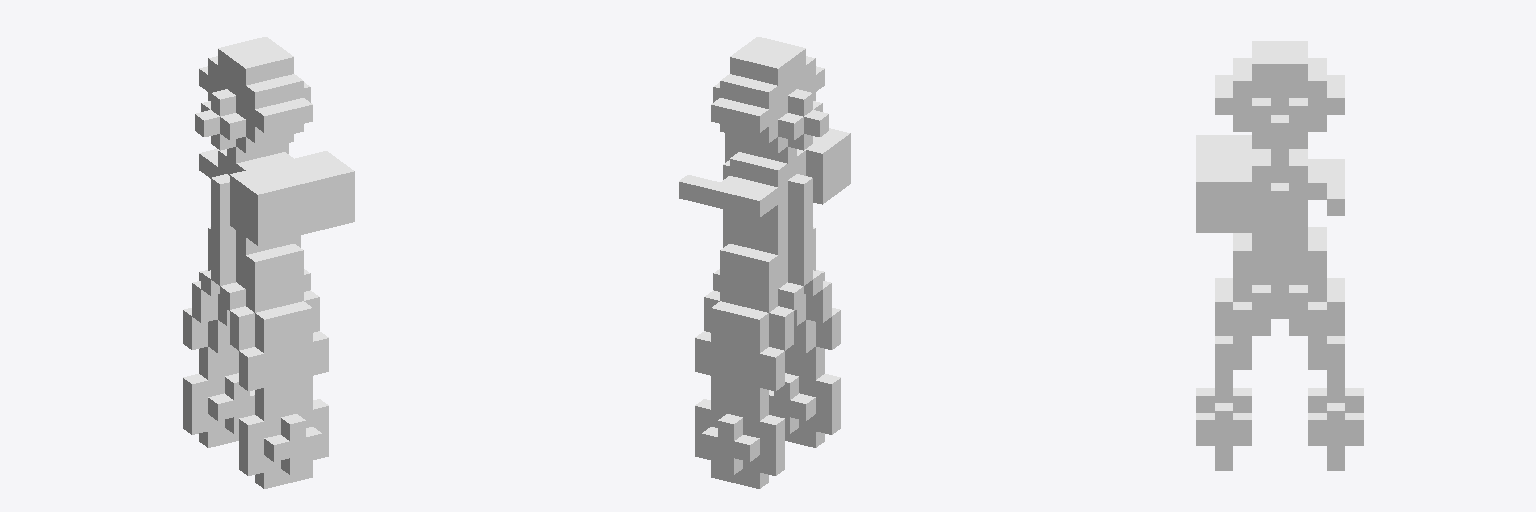
The model's file is player.obj.
3 views of the same model, side by side, from view 1: azimuth 30°, elevation 25°; view 2: azimuth 150°, elevation 25°; view 3: azimuth 270°, elevation 25° (orthographic).
Visible parts, largest first — view 1: object 1; view 2: object 1; view 3: object 1.
Part boxes in pixels (x1,y1,x2,y2): object 1: (183, 37, 354, 488); object 1: (679, 37, 850, 488); object 1: (1196, 41, 1363, 470).
Size of the model in its own units: 0.7 by 2.4 by 0.9.